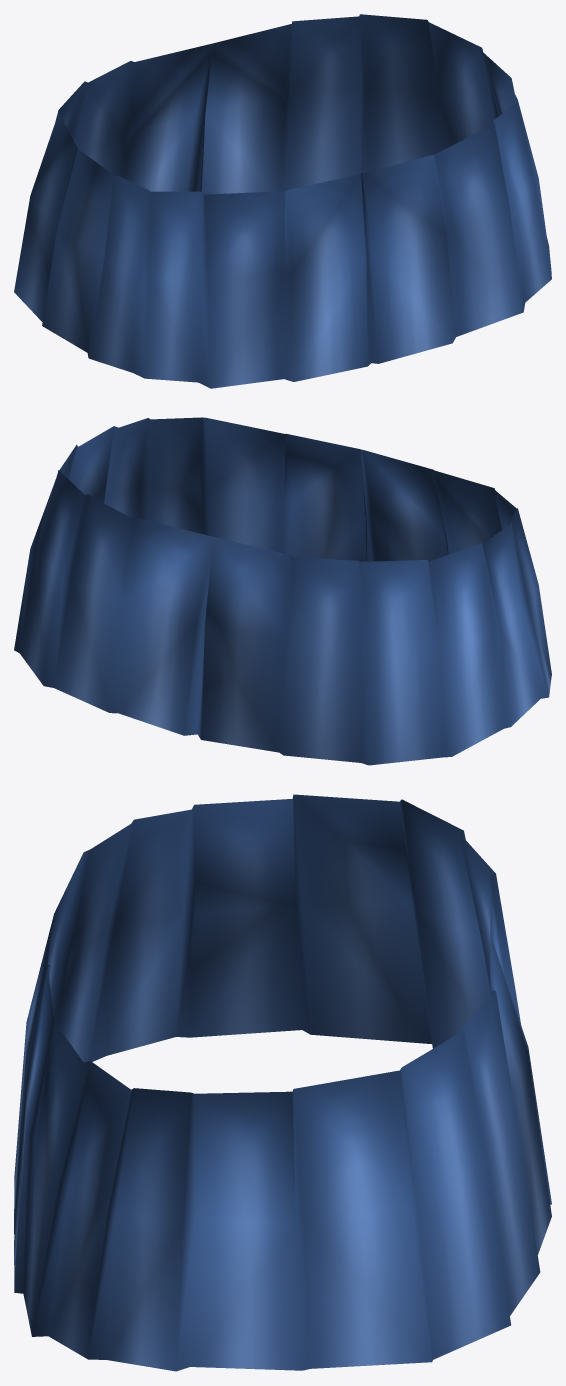
Rendered from skirt 1.fbx.
The picture shows the model from 3 angles, top to bottom: view 1: azimuth 30°, elevation 25°; view 2: azimuth 150°, elevation 25°; view 3: azimuth 270°, elevation 25°; orthographic projection. The views are drawn at different scales.
Visible parts, largest first — view 1: newgyaru.001; view 2: newgyaru.001; view 3: newgyaru.001.
Boxes of the visible parts, x1=… form: newgyaru.001: x1=14, y1=14, x2=551, y2=388; newgyaru.001: x1=14, y1=417, x2=551, y2=765; newgyaru.001: x1=14, y1=794, x2=551, y2=1371.
Size of the model in its own units: 53.91 by 22.72 by 35.97.
